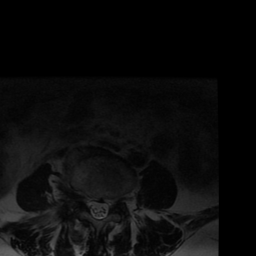CCS_normal: (94, 188, 101, 225)
LFS_normal: (110, 186, 120, 211)
LLS_normal: (101, 189, 110, 223)
RFS_stenosis: (78, 182, 86, 211)
RLS_normal: (86, 188, 94, 220)
